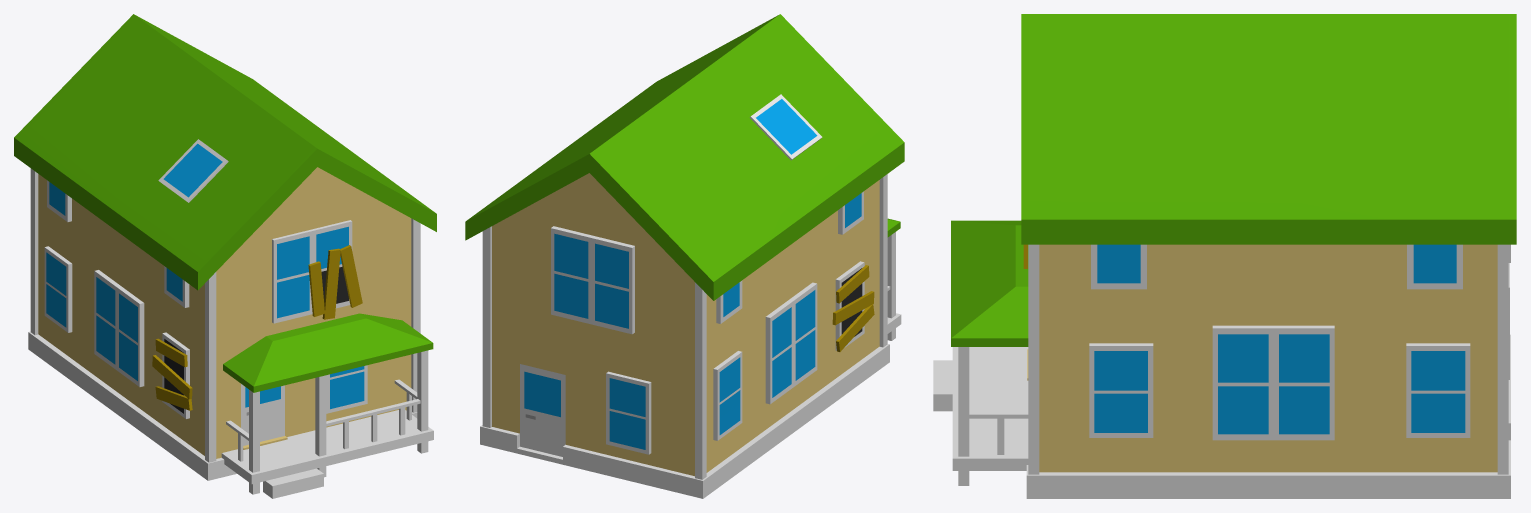
File: bulding_2.fbx
The picture shows the model from 3 angles, left to right: view 1: azimuth 30°, elevation 25°; view 2: azimuth 150°, elevation 25°; view 3: azimuth 270°, elevation 25°; orthographic projection. The views are drawn at different scales.
Visible parts, largest first — view 1: bulding_2; view 2: bulding_2; view 3: bulding_2.
Boxes of the visible parts, x1,y1,x2,y2 form: bulding_2: (14, 14, 436, 498); bulding_2: (465, 14, 904, 498); bulding_2: (933, 14, 1516, 498).
Size of the model in its own units: 861 by 1059 by 1350.
